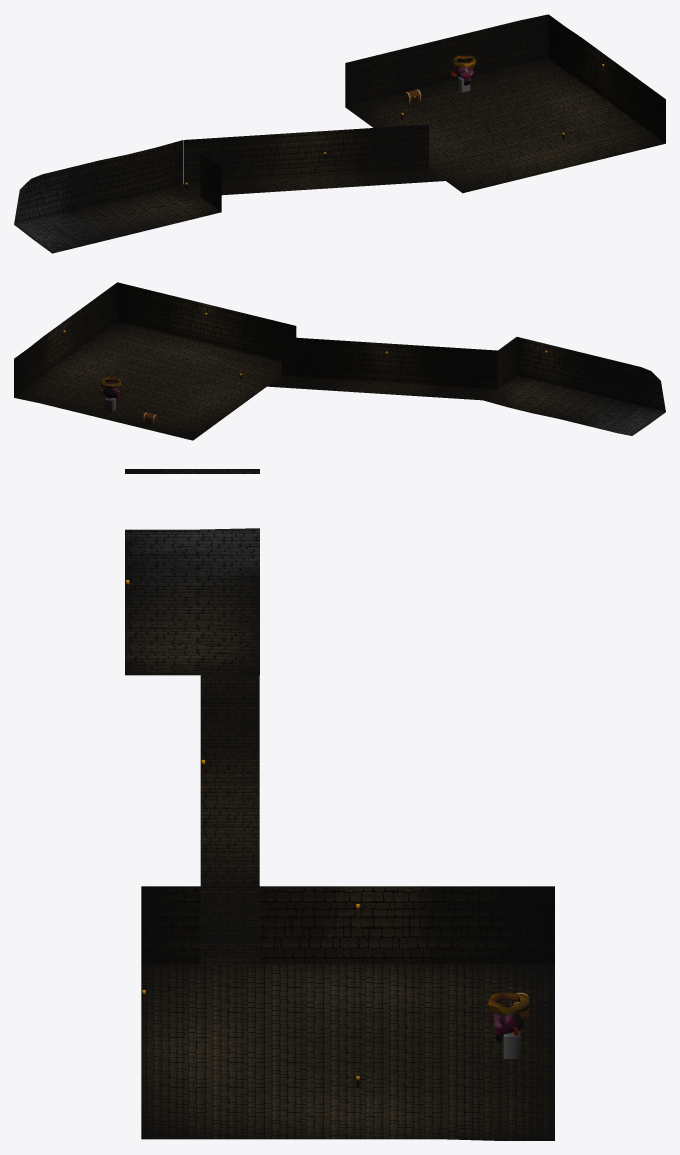
File: dungeon.glb
The picture shows the model from 3 angles, top to bottom: view 1: azimuth 30°, elevation 25°; view 2: azimuth 150°, elevation 25°; view 3: azimuth 270°, elevation 25°; orthographic projection. The views are drawn at different scales.
Parts seen in each view (by area): view 1: Main room, Exit room, Corridor; view 2: Main room, Exit room, Corridor; view 3: Main room, Exit room, Corridor.
Boxes of the visible parts, x1,y1,x2,y2 form: Main room: (345,14,665,193); Exit room: (14,140,221,253); Corridor: (183,124,445,195); Main room: (14,282,296,440); Exit room: (483,337,665,435); Corridor: (267,337,497,400); Main room: (141,886,554,1140); Exit room: (125,469,259,675); Corridor: (200,675,259,964).
Bounding box in the file's own units: 72.99 × 10.11 × 24.95.
Materials: 2 (2 with a texture image).
